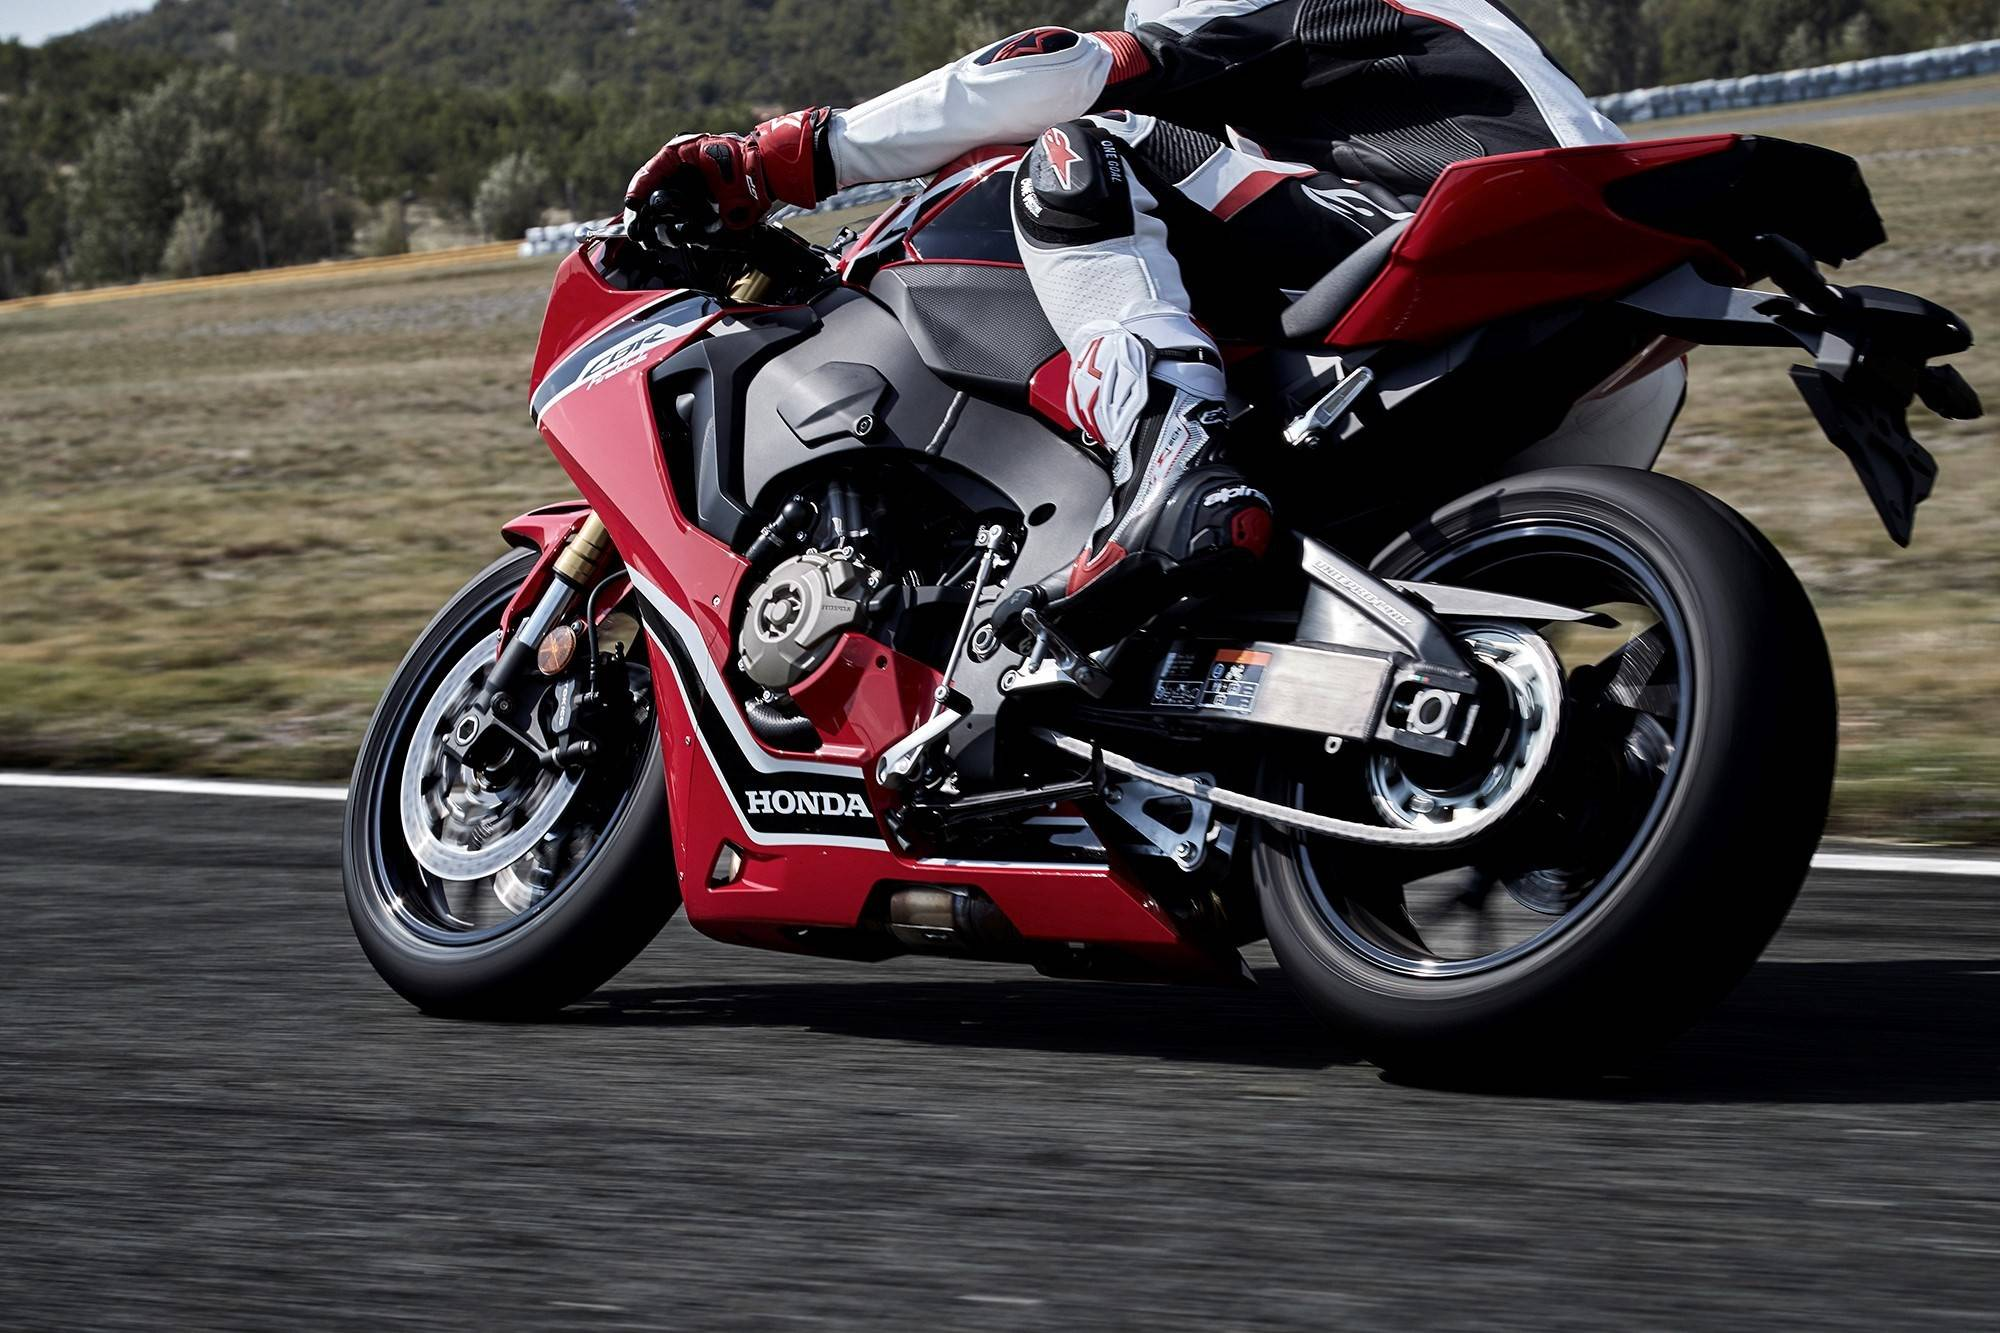motorcycle: (330, 129, 1964, 1071)
